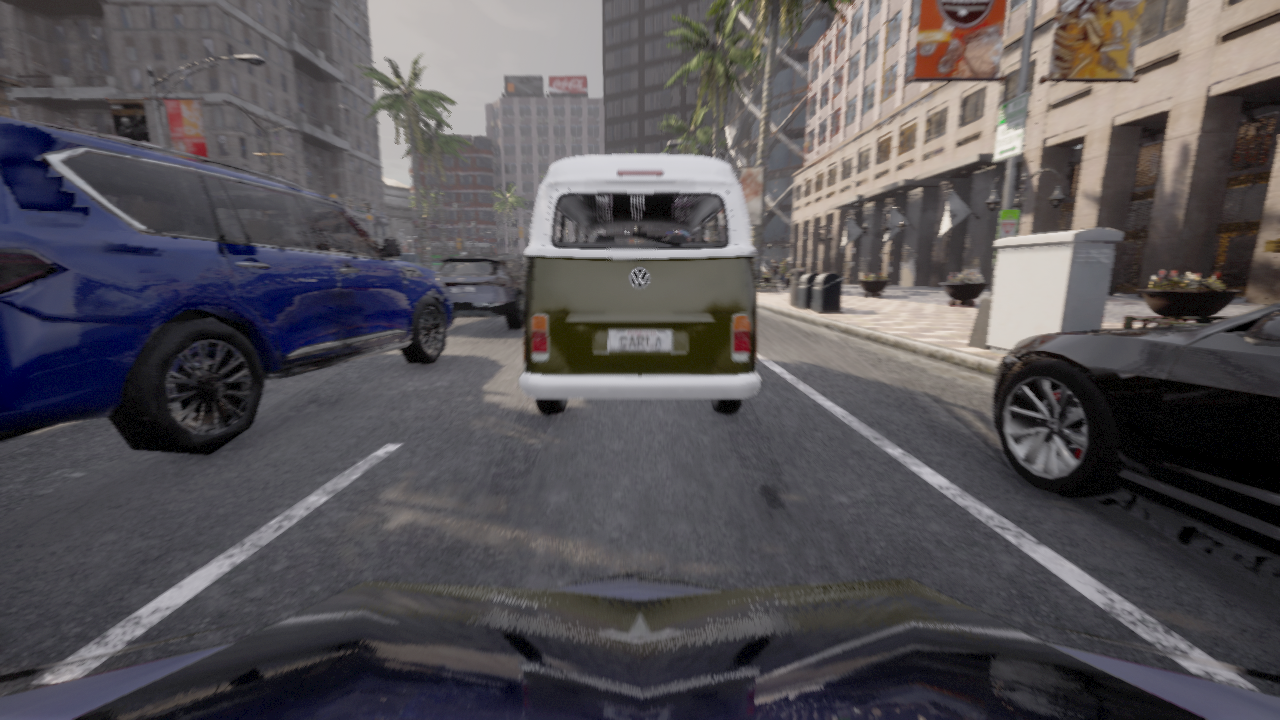cyclist: (0, 569, 1279, 719), (991, 303, 1279, 556), (519, 155, 761, 415), (436, 254, 525, 329)
pedestrian: (779, 261, 787, 289), (769, 261, 777, 285), (775, 261, 779, 269)
